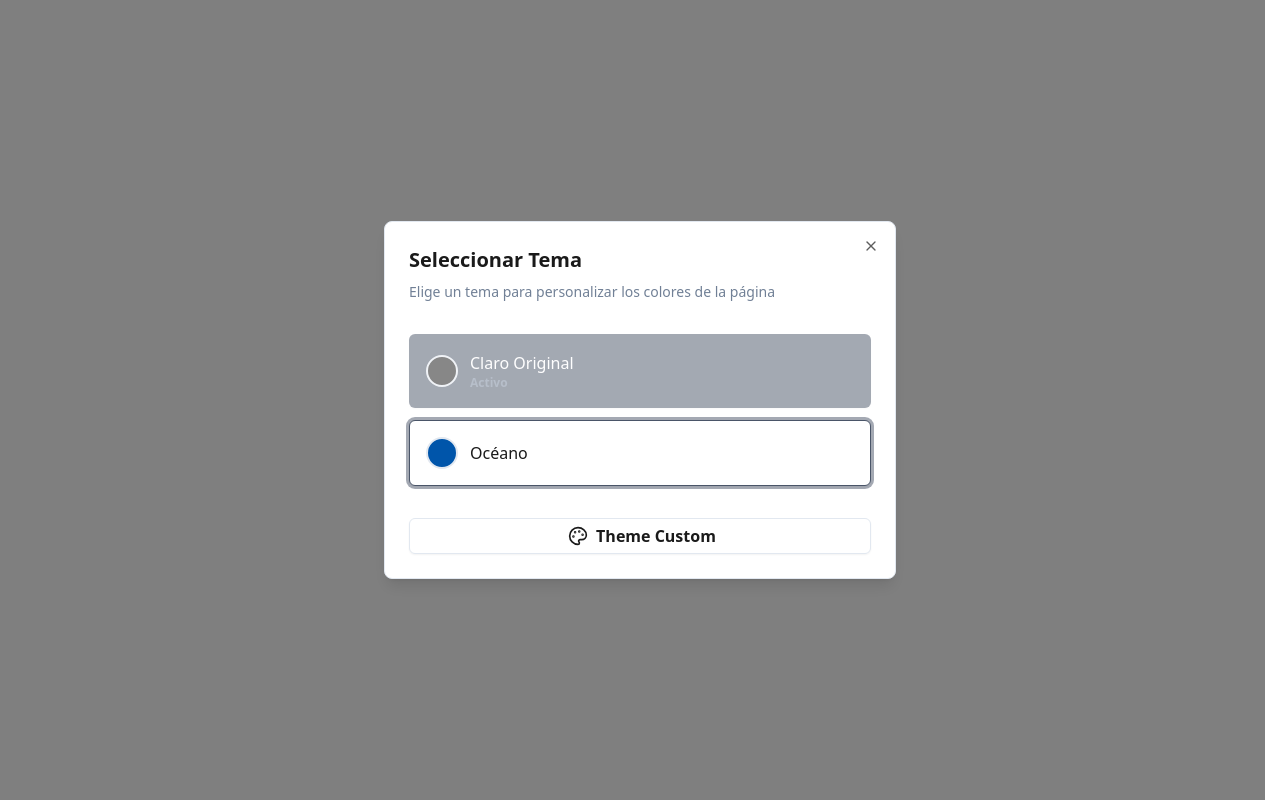
it: ThemeSelectorModal confirmation before reset › opens a confirmation dialog instead of applying the theme immediately
The width and height of the screenshot is (1280, 800).
Click the button "Océano": (442, 453) x1=409 y1=420 x2=871 y2=486
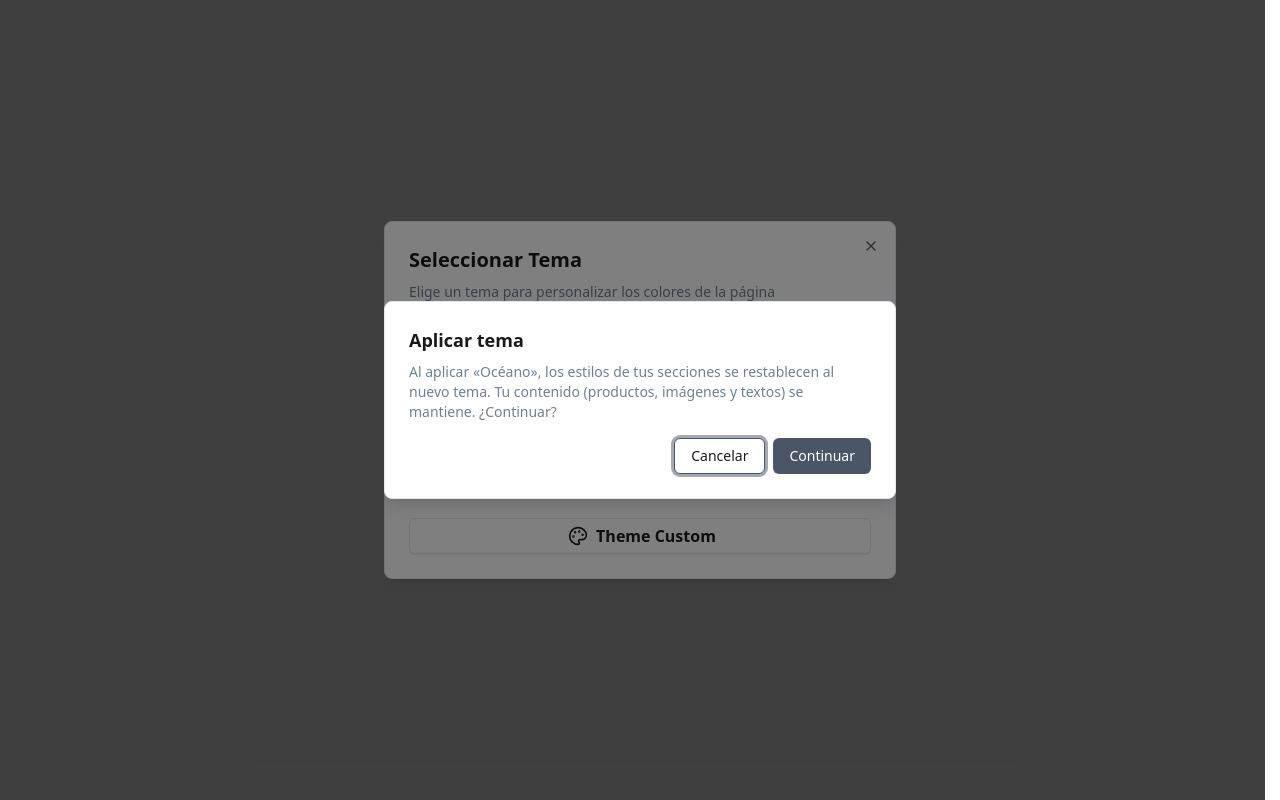
Check: the dialog that starts with "Aplicar tema" is shown, box x1=384 y1=301 x2=896 y2=499
Check: the heading "Aplicar tema" is shown, box x1=409 y1=328 x2=524 y2=352
Check: the text "tu contenido (productos, imágenes y textos) se mantiene" is shown, box x1=409 y1=362 x2=834 y2=421
